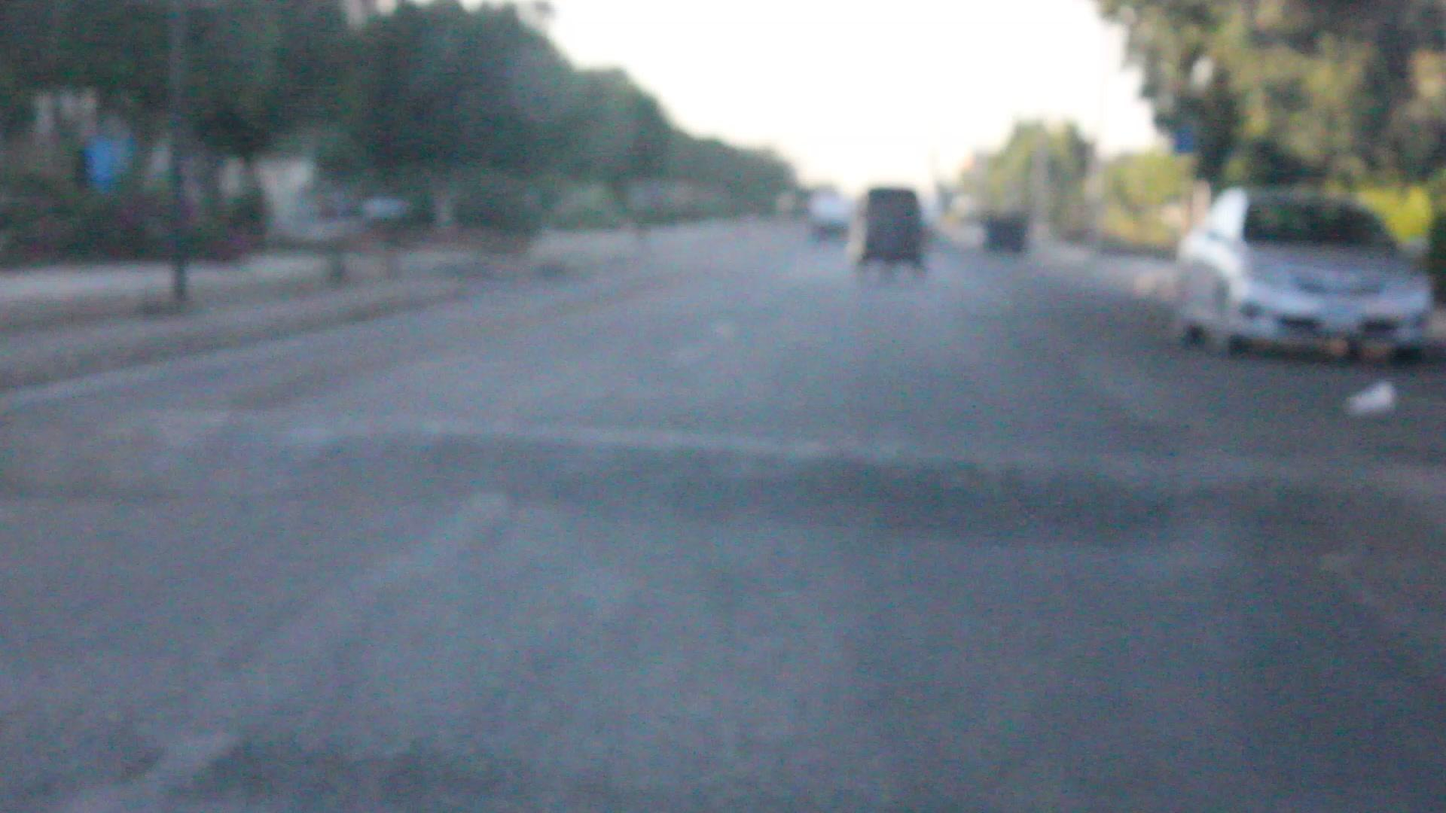Bump: (0, 393, 1445, 571)
